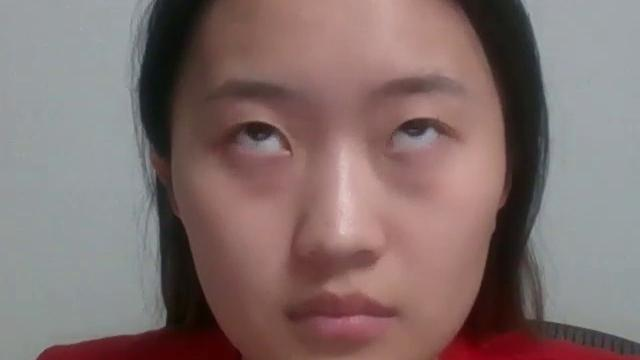eye: (400, 109, 433, 137), (244, 114, 274, 142)
iris: (232, 121, 290, 151), (389, 119, 441, 149)
